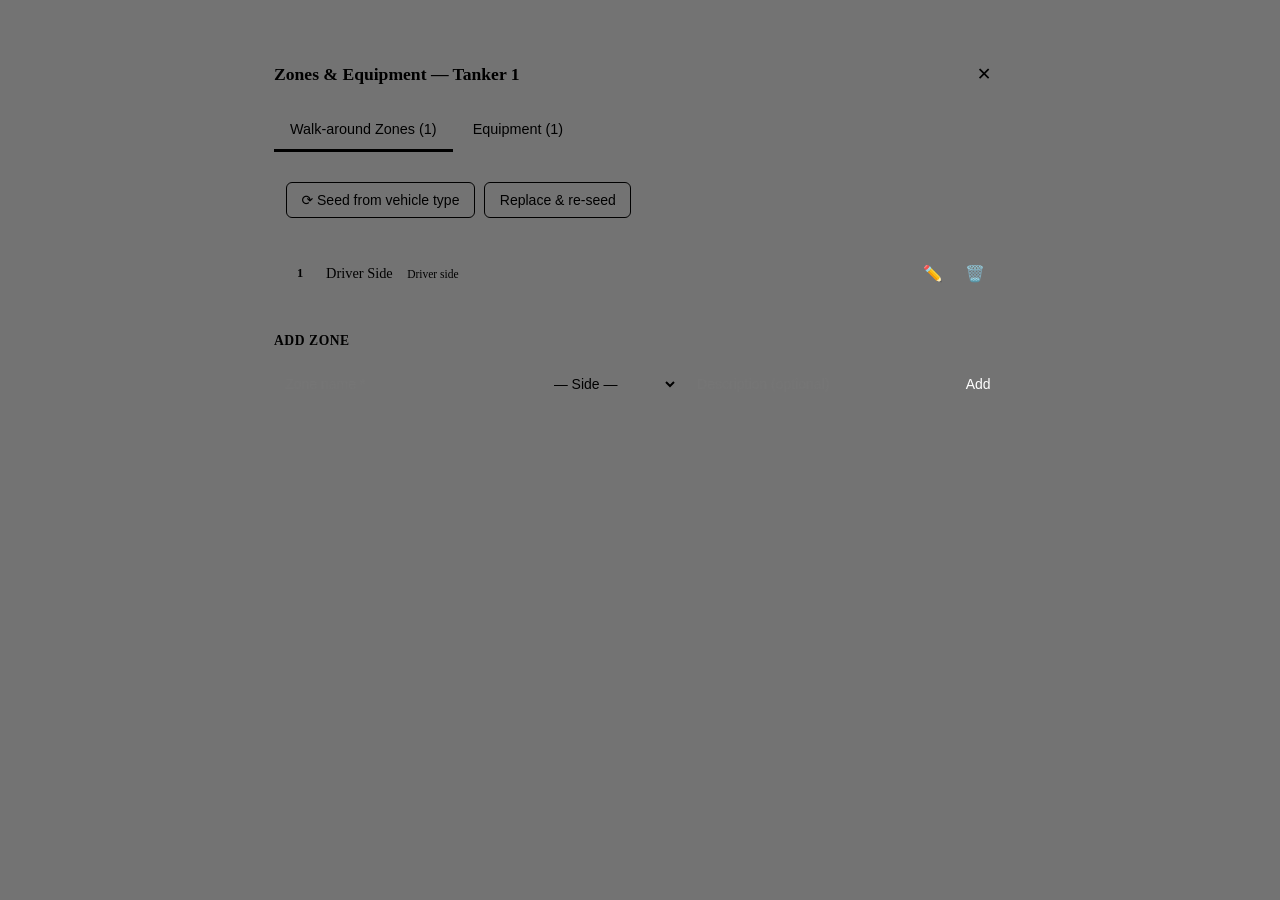
it: ApplianceZonesModal › shows fallback message when seed returns 0 zones
The image size is (1280, 900).
Expected: the text "Driver Side" is shown, x1=326 y1=265 x2=393 y2=282
Click the button "⟳ Seed from vehicle type": (380, 200) x1=286 y1=182 x2=475 y2=218
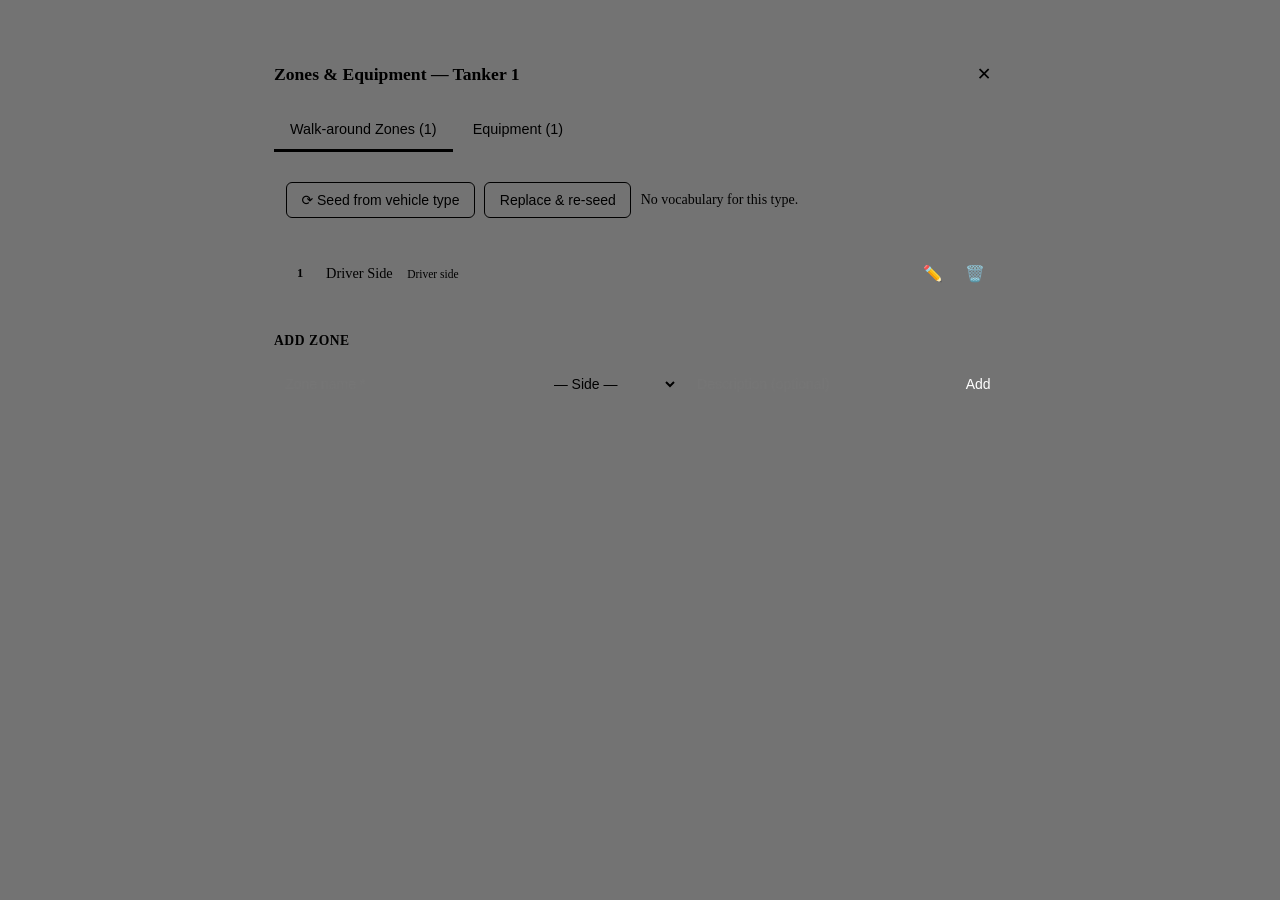
Expected: the text "No vocabulary for this type." is shown, x1=641 y1=192 x2=798 y2=208
